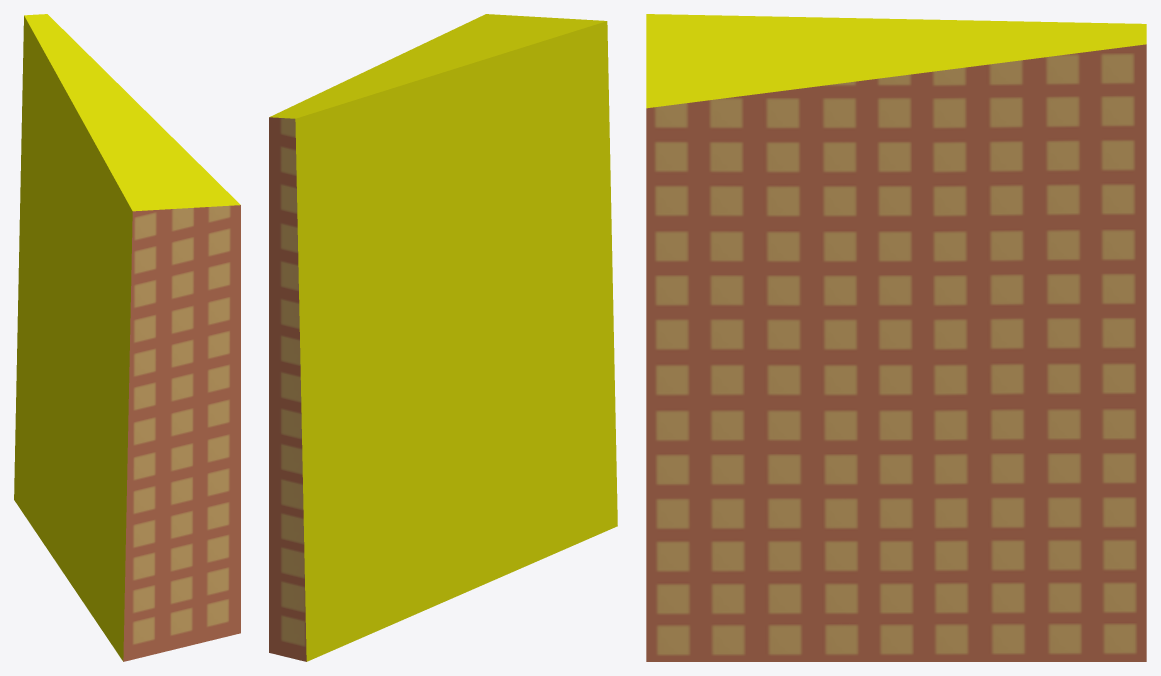
File: stShard2.fbx
3 views of the same model, side by side, from view 1: azimuth 30°, elevation 25°; view 2: azimuth 150°, elevation 25°; view 3: azimuth 270°, elevation 25° (orthographic). The views are drawn at different scales.
Visible parts, largest first — view 1: shard27; view 2: shard27; view 3: shard27.
Part boxes in pixels (bbox=[...]): shard27: bbox=[14, 14, 240, 661]; shard27: bbox=[269, 14, 617, 661]; shard27: bbox=[646, 14, 1146, 661].
Bounding box in the file's own units: 0.0621 × 0.2434 × 0.1771.
Materials: 2 (1 with a texture image).
